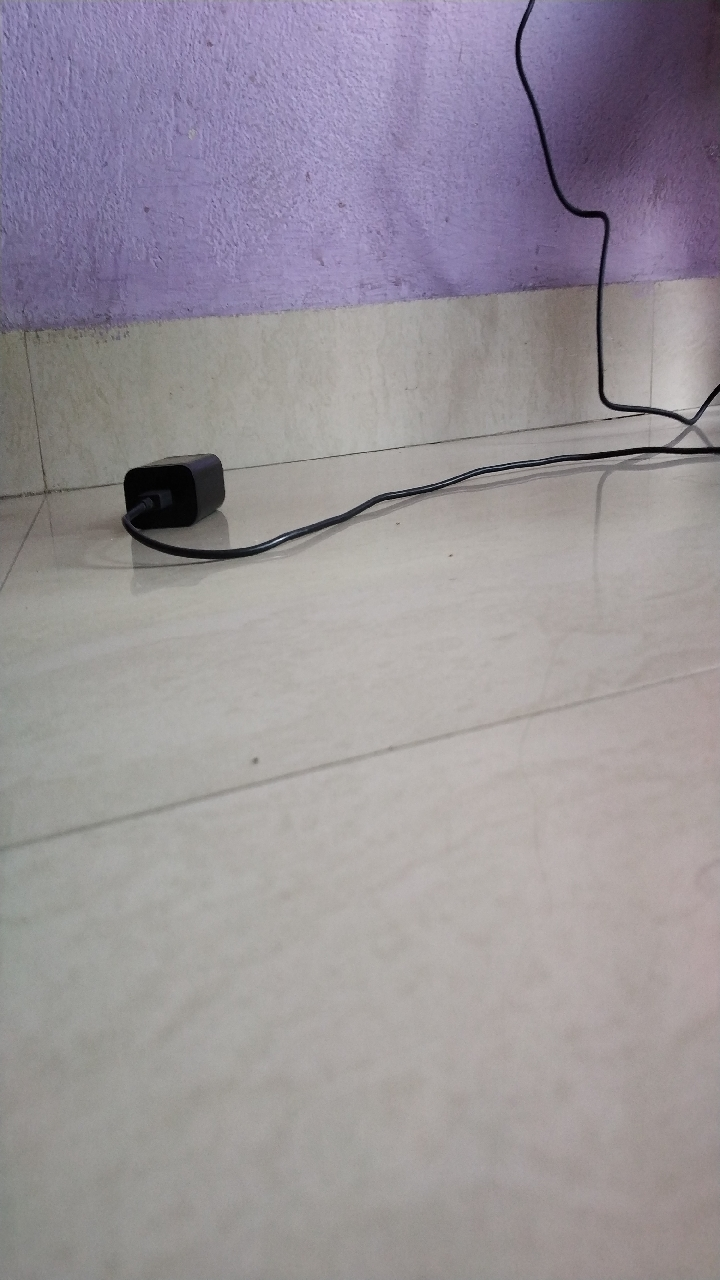cables: (494, 4, 720, 478), (102, 448, 720, 567)
